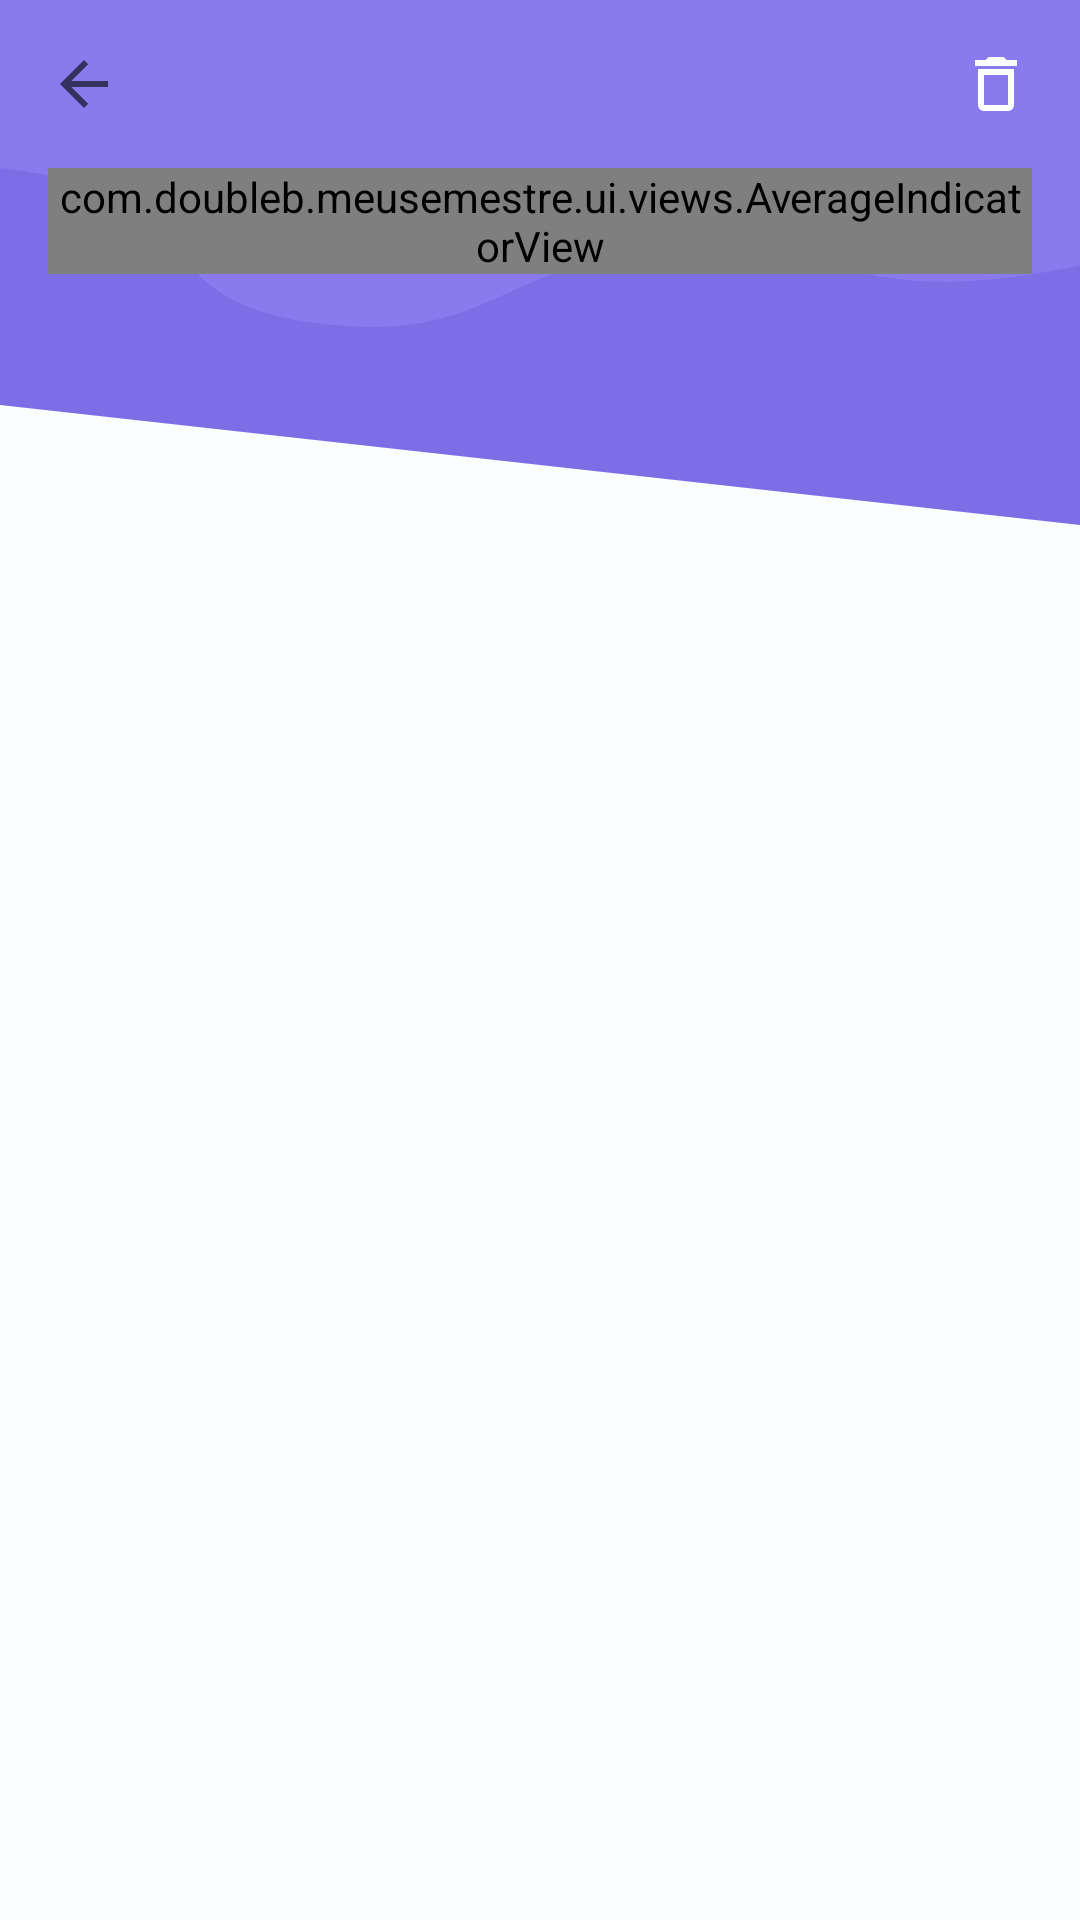

Point at icon controls on the screen. Image size 1080px×1920px, points as point (x, y).
delete: point (996, 84)
